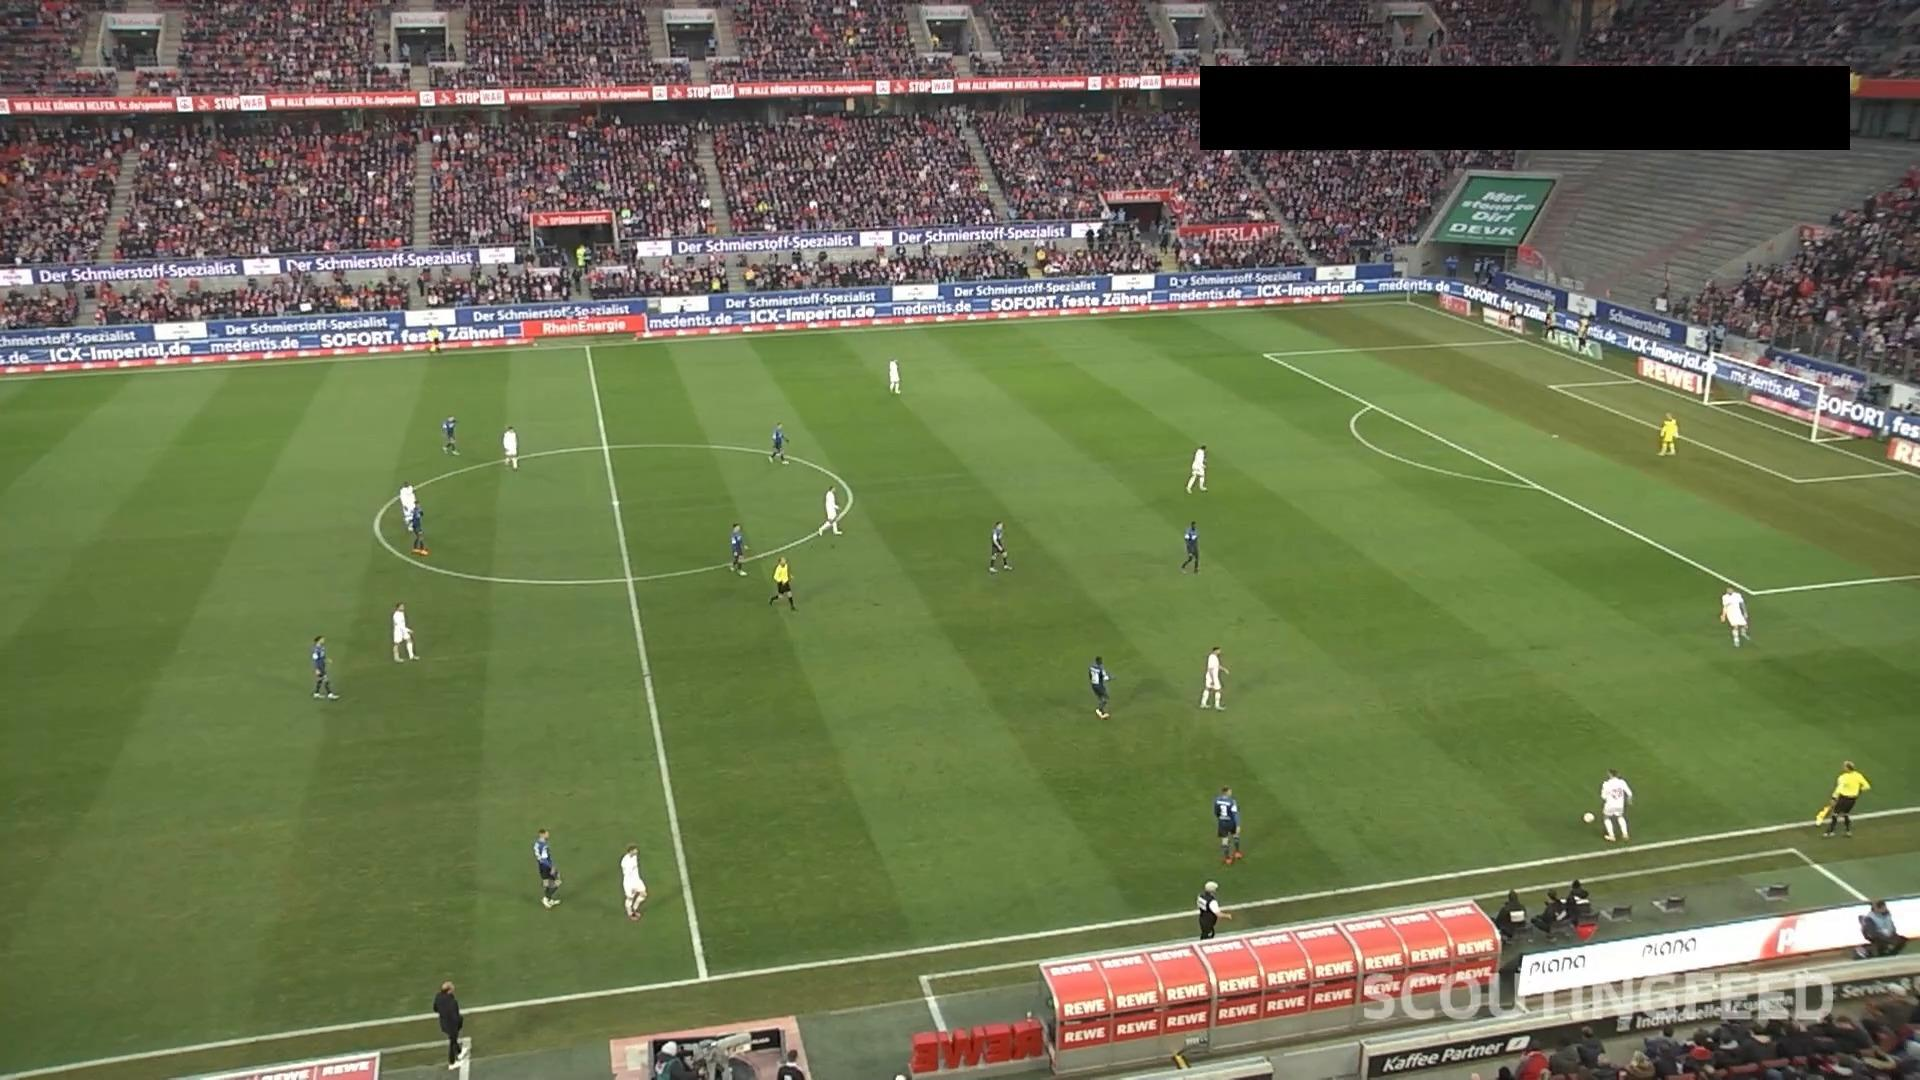ball: (1581, 811, 1596, 824)
